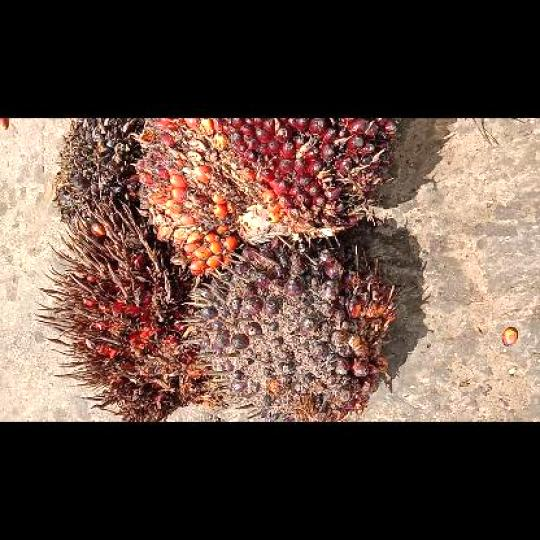kurang masak: (182, 236, 396, 421)
masak: (134, 118, 401, 277)
terlalu masak: (34, 199, 223, 421)
